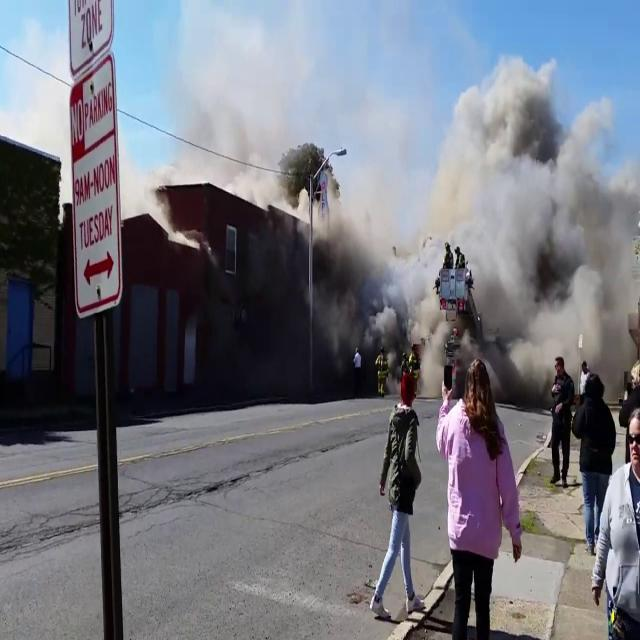Smoke: (418, 48, 640, 384)
